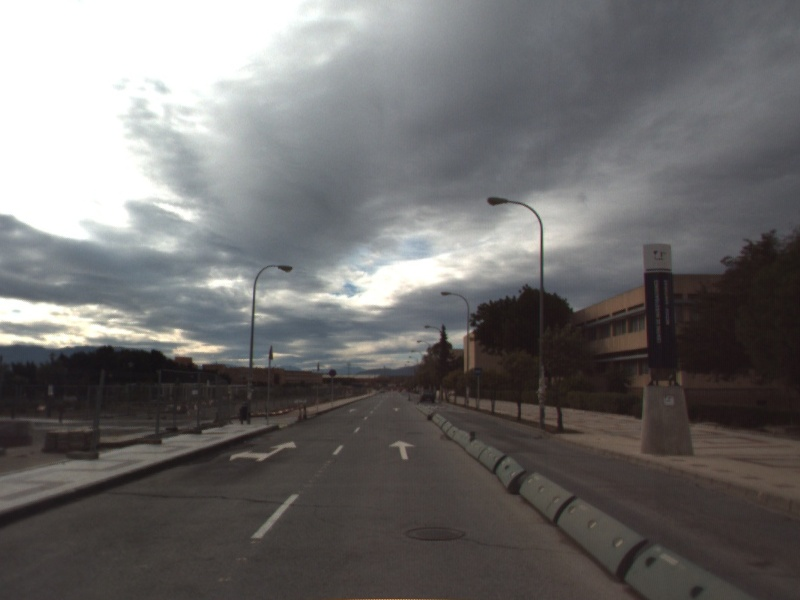STRAIGHT: (387, 438, 418, 462)
STRAIGHT_LEFT: (227, 439, 298, 463)
